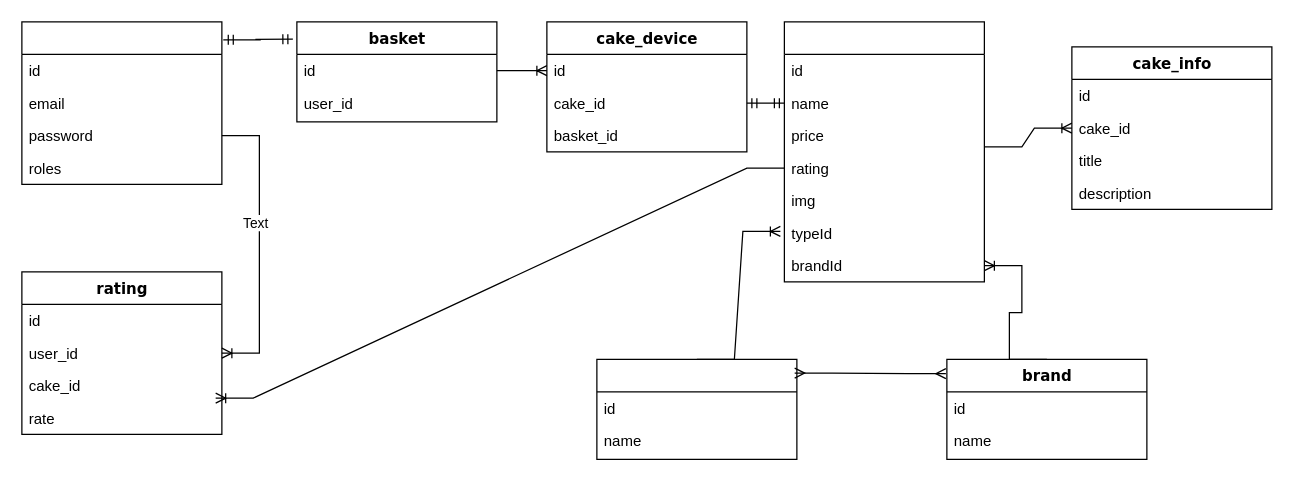
Some shapes in this 1294 by 483 pixel diagram are drawn without their labels. The box of each missing label's shape, as (x1, y1, x2, y2) in pixels:
cake: (783, 21, 984, 282)
type: (596, 358, 797, 459)
user: (21, 21, 222, 184)
